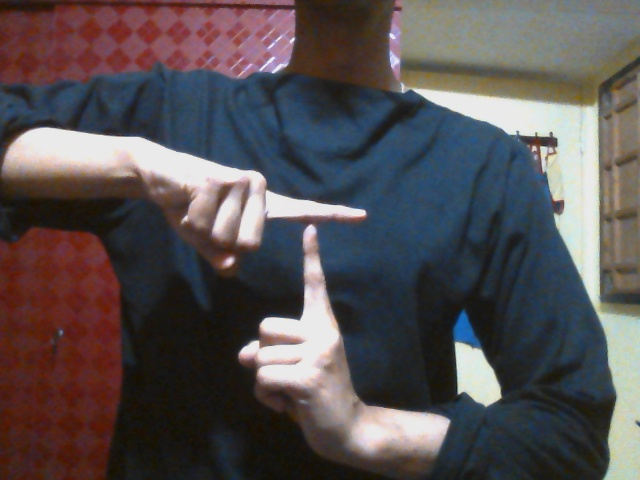T: (175, 163, 371, 428)
